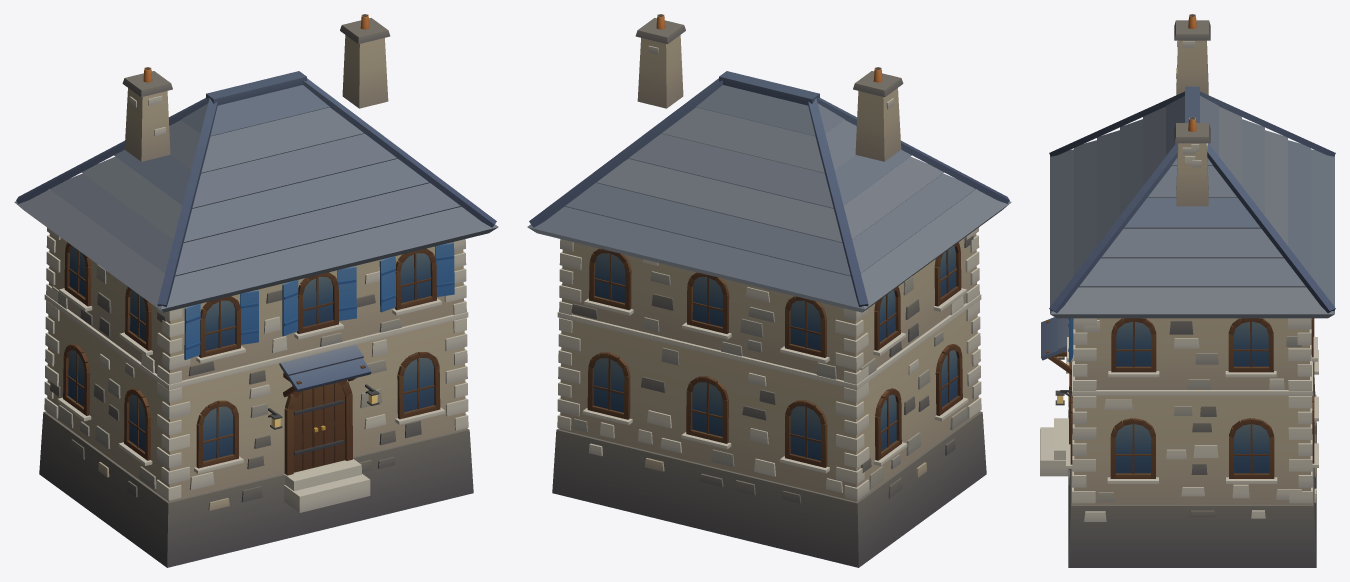
The model's file is house_07_stone_manor.glb.
The picture shows the model from 3 angles, left to right: view 1: azimuth 30°, elevation 25°; view 2: azimuth 150°, elevation 25°; view 3: azimuth 270°, elevation 25°; orthographic projection. The views are drawn at different scales.
Parts seen in each view (by area): view 1: house_07_stone_manor; view 2: house_07_stone_manor; view 3: house_07_stone_manor.
Boxes of the visible parts, x1,y1,x2,y2 form: house_07_stone_manor: [14, 14, 498, 567]; house_07_stone_manor: [527, 14, 1011, 567]; house_07_stone_manor: [1040, 14, 1335, 567].
Size of the model in its own units: 32.81 by 40.79 by 25.52.
1 material, 1 textured.
